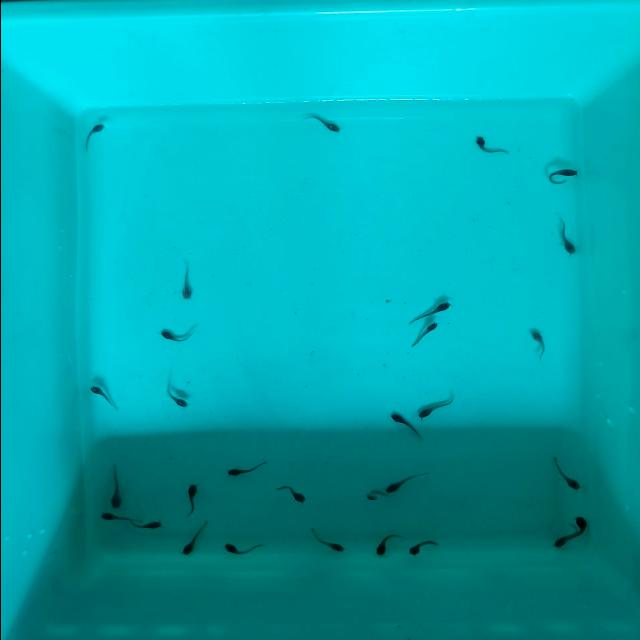lele: (546, 455, 584, 494), (387, 412, 428, 443), (407, 298, 454, 325), (179, 520, 212, 556), (415, 394, 455, 422), (384, 469, 426, 494), (303, 112, 344, 137), (469, 135, 507, 161), (307, 528, 345, 554), (227, 460, 270, 480), (554, 219, 577, 256), (409, 320, 440, 347), (542, 165, 583, 185), (276, 482, 311, 505), (79, 122, 107, 149), (404, 536, 439, 557), (161, 384, 189, 410), (87, 385, 116, 410), (374, 530, 398, 557), (108, 464, 121, 511), (550, 528, 578, 549), (529, 329, 549, 358), (157, 329, 190, 346), (184, 484, 198, 517), (223, 544, 263, 555), (99, 511, 138, 522), (127, 520, 164, 531), (573, 515, 588, 542), (181, 268, 191, 300), (362, 489, 391, 500)
